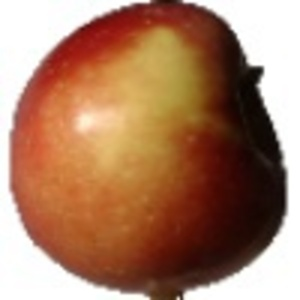maçã braeburn: (8, 4, 291, 293)
